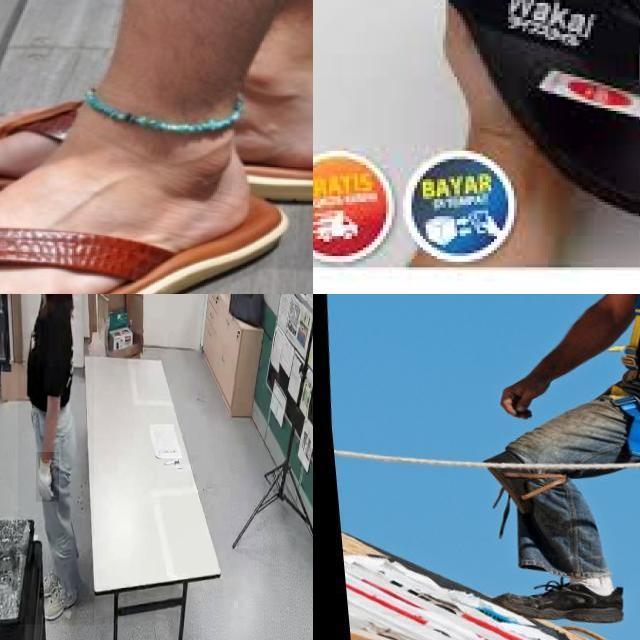Sandals: (330, 0, 640, 275), (0, 138, 289, 294)
hand_glove: (36, 452, 60, 503)
person: (17, 294, 94, 625)
shoes: (43, 573, 77, 621)
